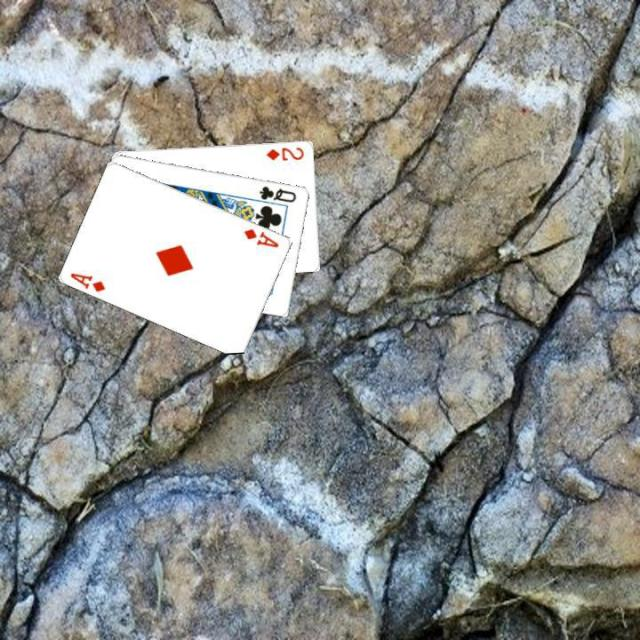2D: (262, 143, 306, 162)
AD: (66, 268, 108, 294), (240, 224, 281, 250)
QC: (255, 182, 298, 204)
